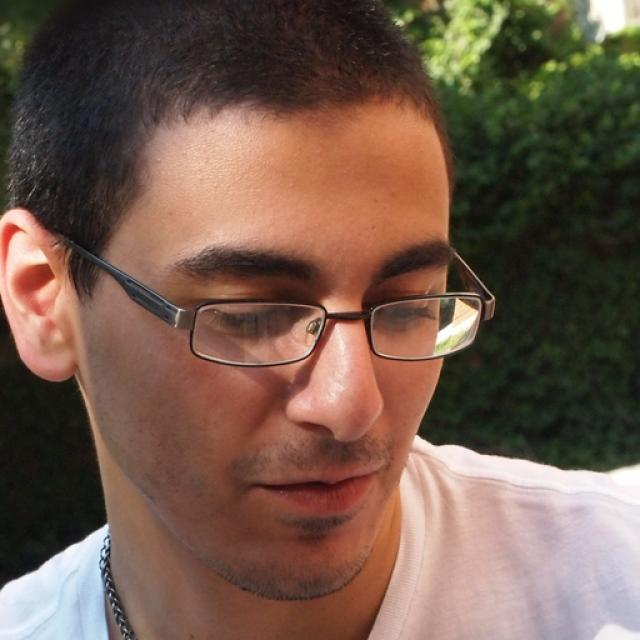neutral: (80, 93, 454, 596)
